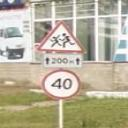speed_limit_40: (42, 70, 81, 102)
